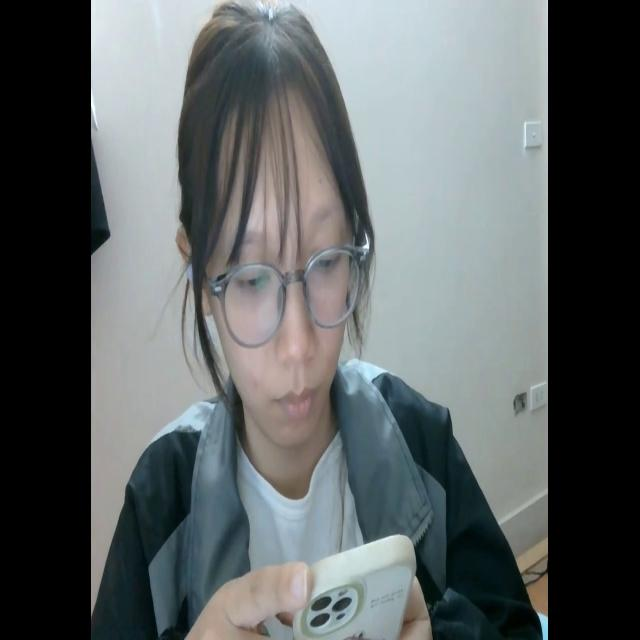phone: (284, 522, 418, 640)
student: (96, 0, 544, 640)
